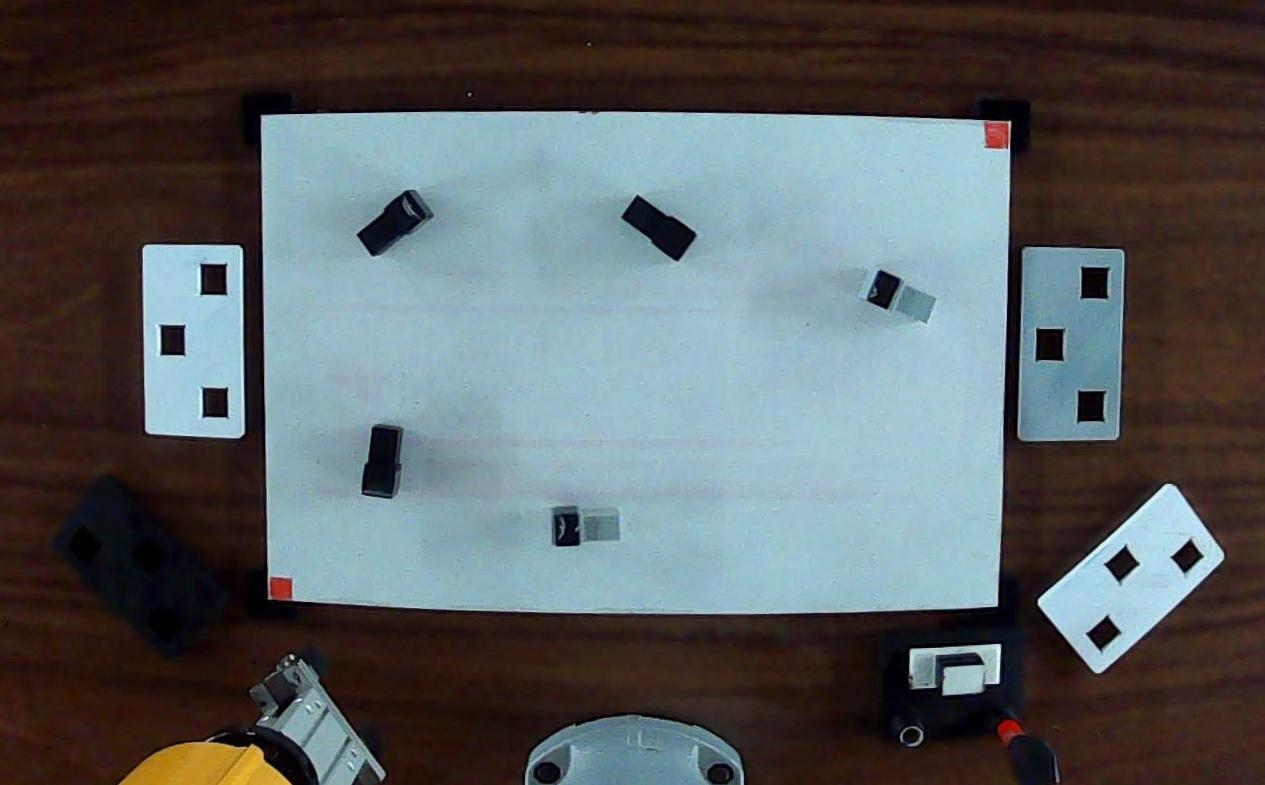pecaCinzaCaida: (847, 261, 951, 333), (551, 502, 627, 551)
pecaPretaCaida: (349, 182, 444, 269), (614, 189, 707, 267), (354, 419, 412, 508)
